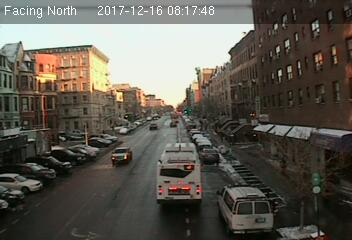bus: (155, 143, 204, 207)
car: (112, 147, 134, 164), (201, 149, 220, 163)
police: (215, 181, 275, 235)
